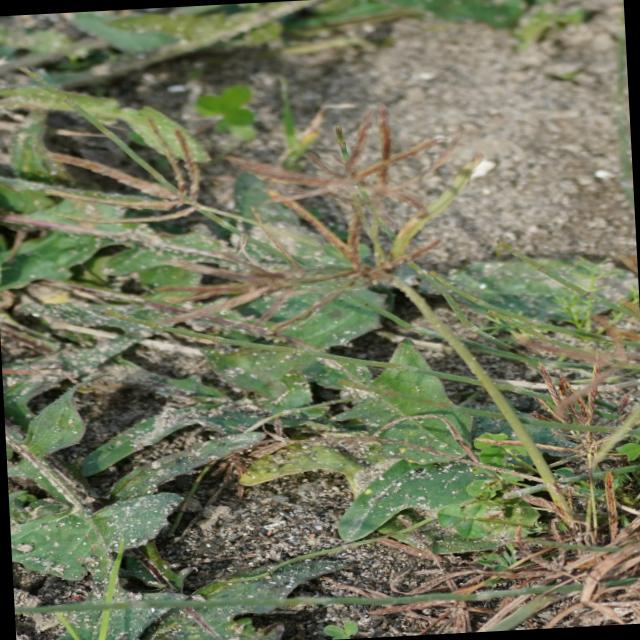cyperus: (20, 71, 474, 352), (479, 292, 640, 544)
